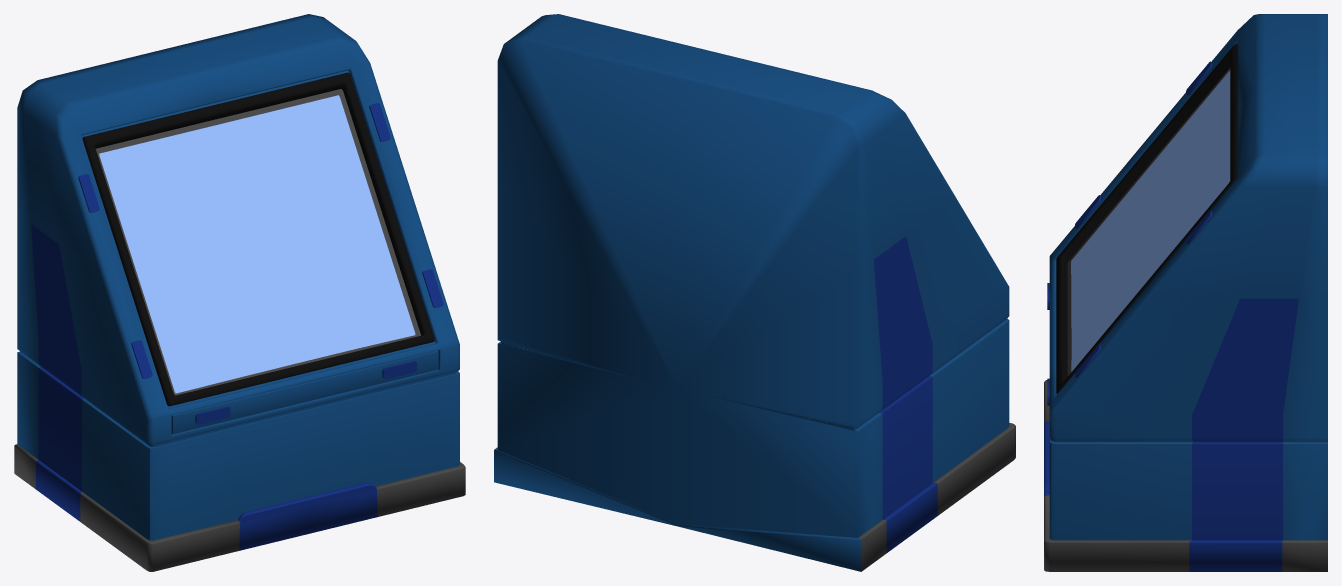
The model's file is ML_roleconsole.fbx.
3 renders of one model, left to right at view 1: azimuth 30°, elevation 25°; view 2: azimuth 150°, elevation 25°; view 3: azimuth 270°, elevation 25°, orthographic. The views are drawn at different scales.
Visible parts, largest first — view 1: ML_roleconsole; view 2: ML_roleconsole; view 3: ML_roleconsole.
Boxes of the visible parts, left/top/right/bottom form: ML_roleconsole: left=14, top=14, right=465, bottom=571; ML_roleconsole: left=494, top=14, right=1015, bottom=571; ML_roleconsole: left=1044, top=14, right=1327, bottom=571.
Bounding box in the file's own units: 191 × 223 × 141.
